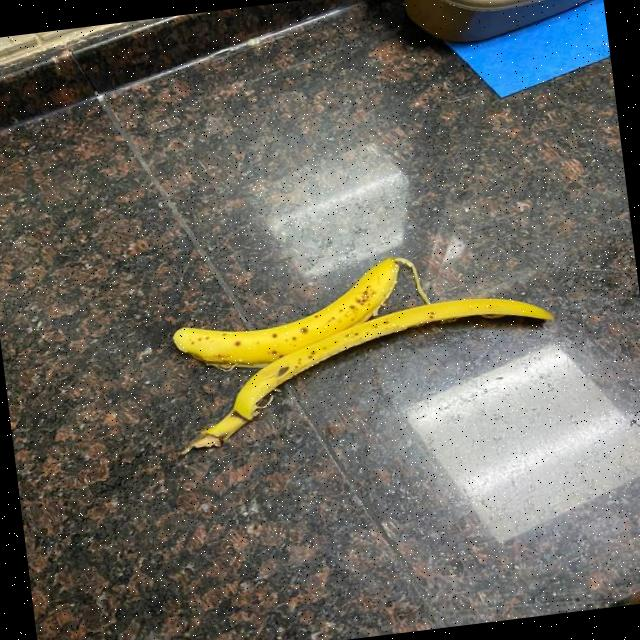banana-peel: (166, 285, 564, 455), (164, 251, 434, 377)
